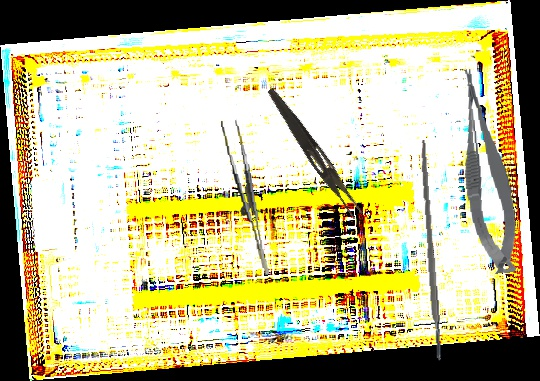Dressing Forceps: (260, 86, 368, 220)
Micro Scissor: (455, 66, 521, 276)
Scalpel Handle: (418, 139, 443, 362)
Tissue Forceps: (220, 117, 270, 278)
